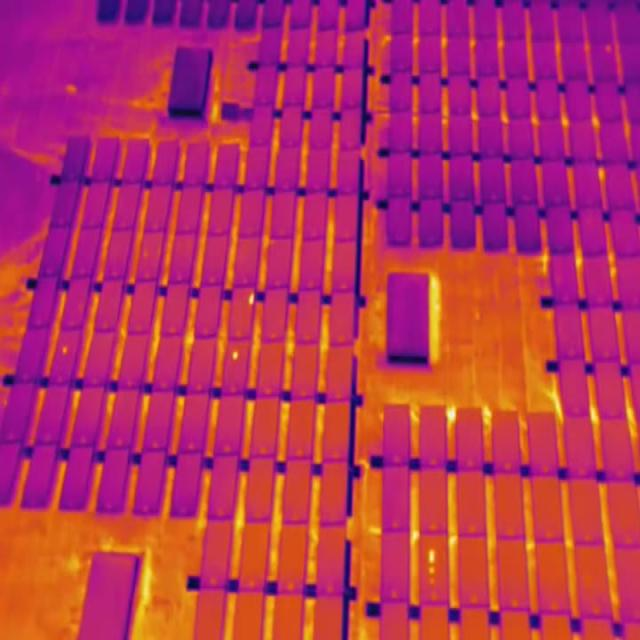Orange-Spots: (428, 546, 436, 586), (249, 293, 254, 305), (606, 44, 612, 52), (232, 352, 238, 359), (62, 347, 68, 354)
